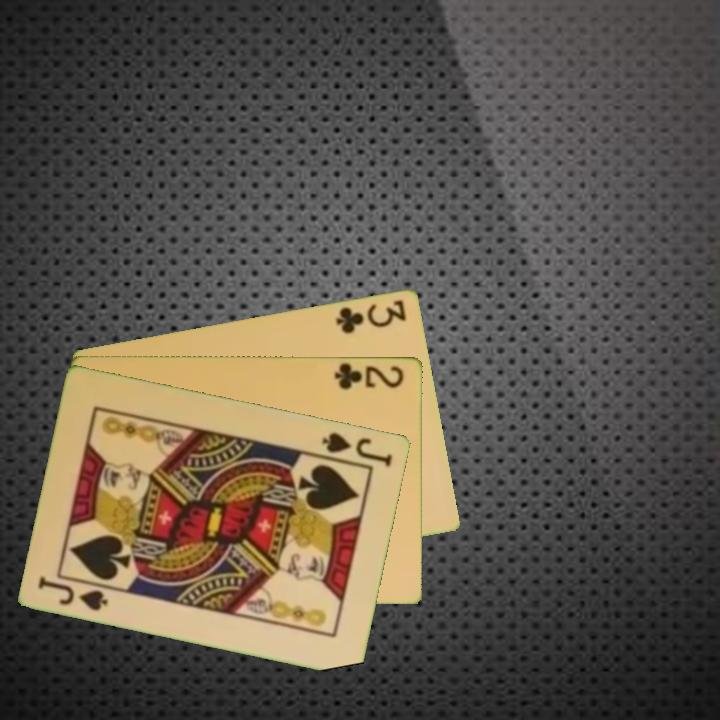2c: (331, 359, 407, 392)
3c: (333, 296, 409, 336)
Js: (318, 428, 396, 470), (35, 572, 112, 614)
